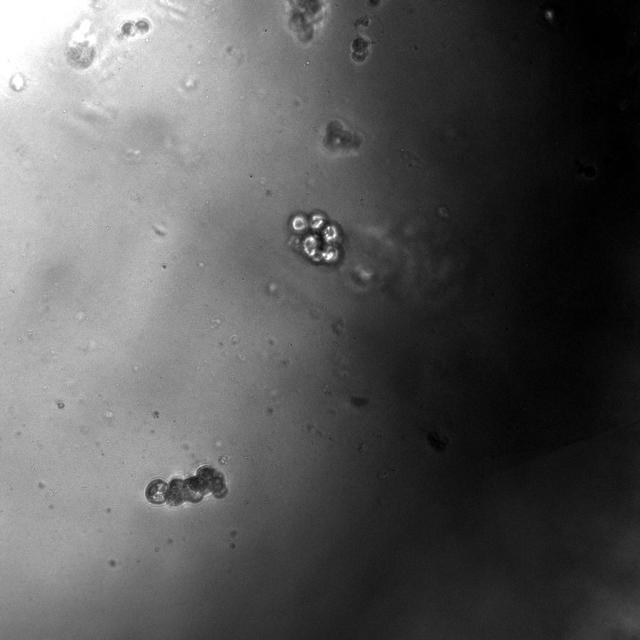organoid: (144, 465, 228, 507), (288, 210, 343, 265), (285, 0, 327, 46), (322, 119, 364, 157), (350, 34, 372, 65), (120, 19, 150, 37)
